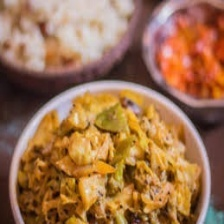sabzi: (14, 93, 203, 224)
